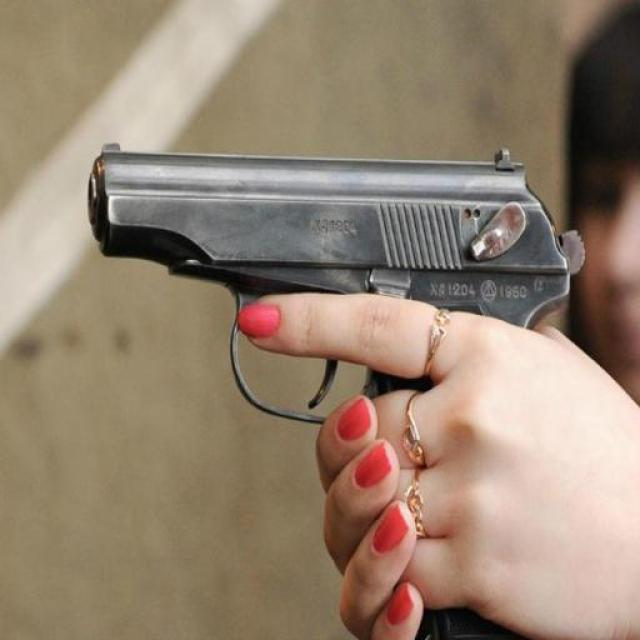pistol: (83, 134, 589, 625)
